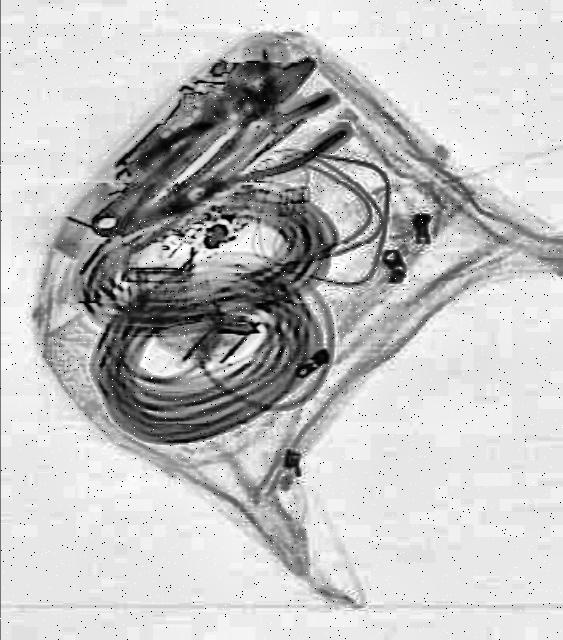Pliers: (138, 35, 334, 208), (163, 92, 355, 234)
Wrench: (80, 42, 304, 264)
